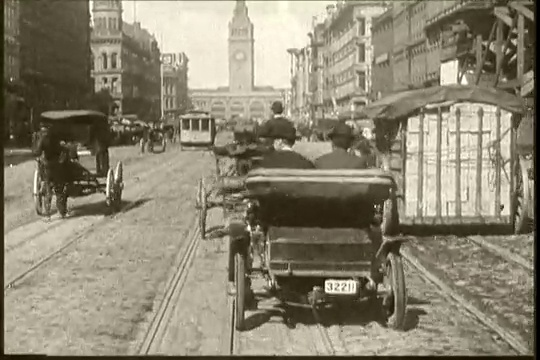carriage: (348, 85, 528, 241)
